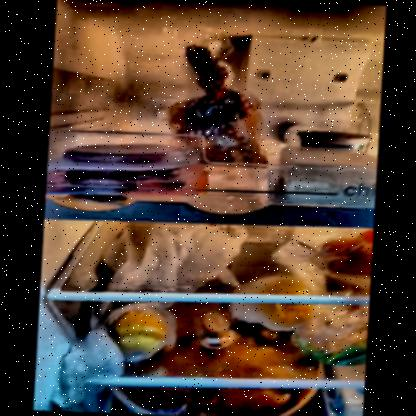cheese: (275, 148, 377, 192)
lemon: (109, 310, 173, 352), (263, 276, 319, 323)
salami: (63, 142, 175, 170)
yoghurt: (296, 128, 372, 152)
